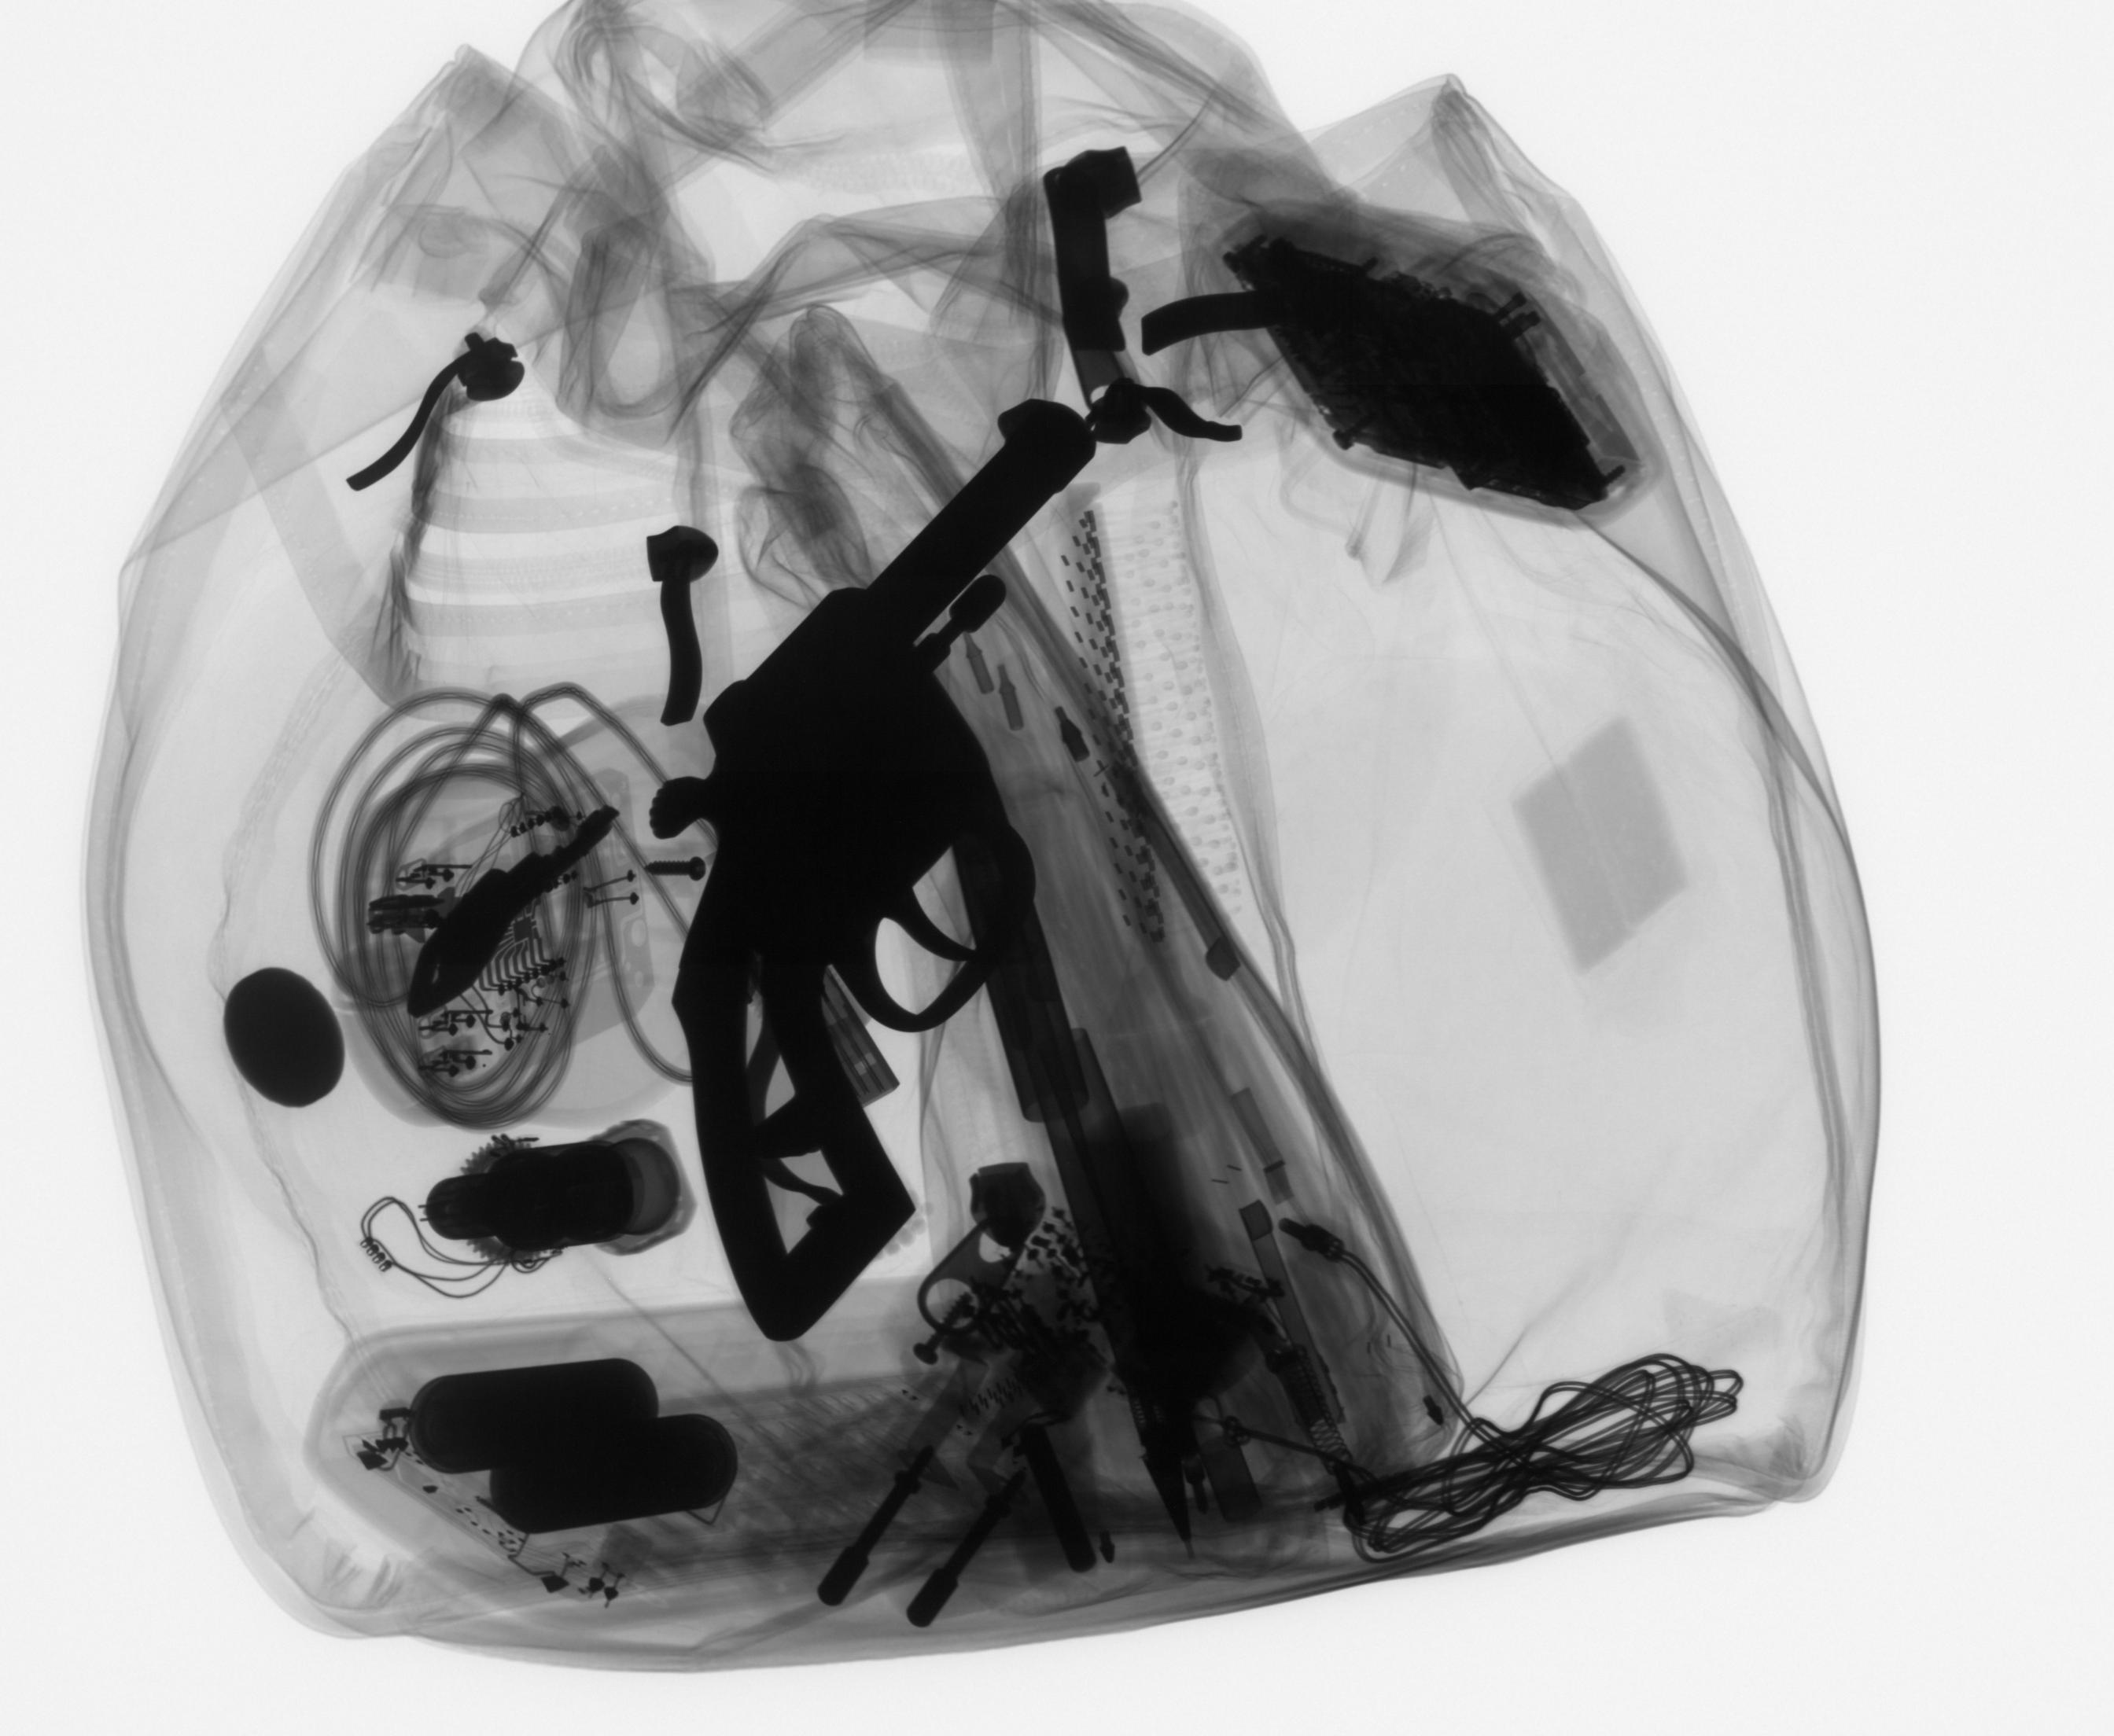Handgun: (648, 386, 1117, 1339)
